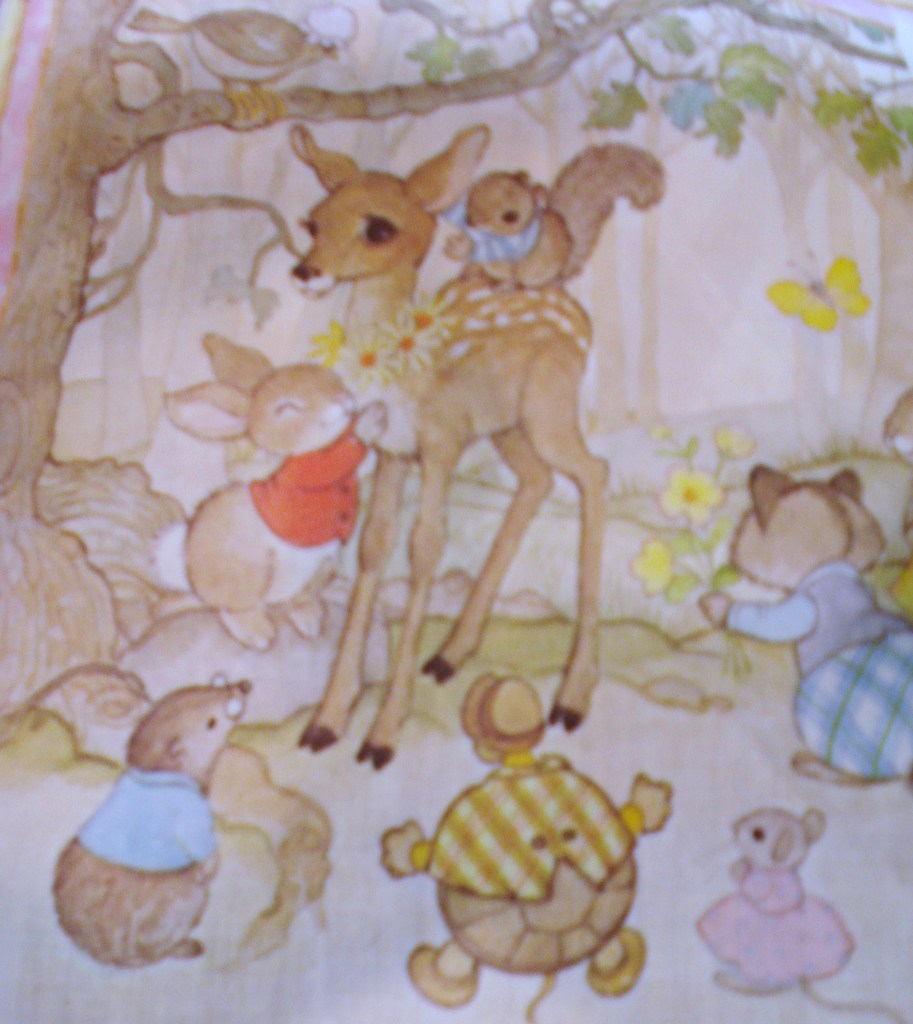Sea turtles: (382, 664, 674, 1002)
